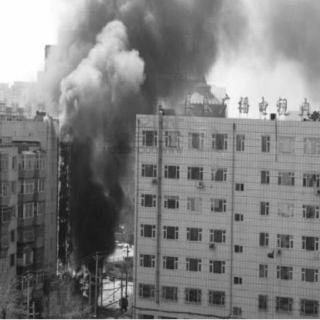Fire: (68, 257, 92, 297)
